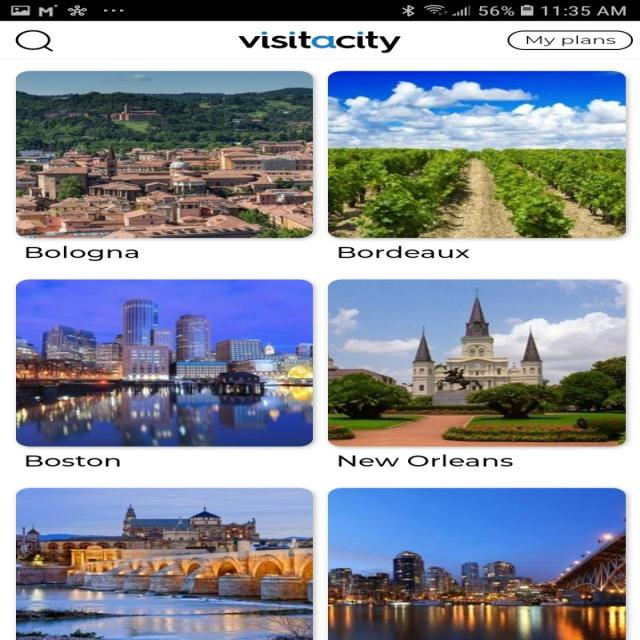Icon: (15, 29, 54, 52)
Image: (327, 279, 626, 446), (15, 279, 313, 446), (327, 71, 625, 238), (15, 71, 313, 238), (326, 487, 625, 640), (16, 487, 313, 640), (237, 32, 401, 54)
Text: (338, 454, 513, 466), (25, 245, 139, 261), (338, 245, 469, 258), (26, 455, 120, 466)
TextButton: (506, 30, 632, 50)
